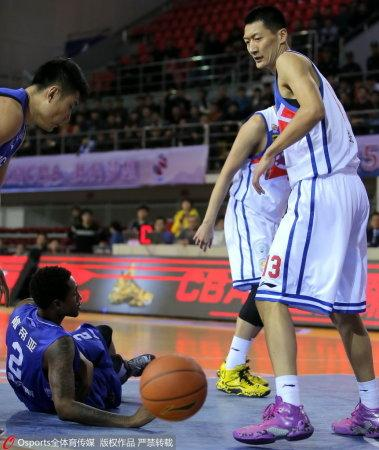bending: (197, 95, 291, 399)
down: (1, 261, 167, 437)
up: (232, 17, 379, 441)
